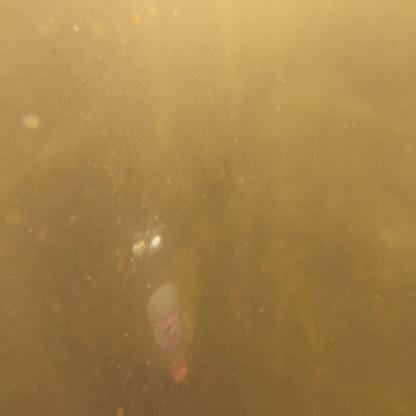Rác: (113, 212, 202, 415)
